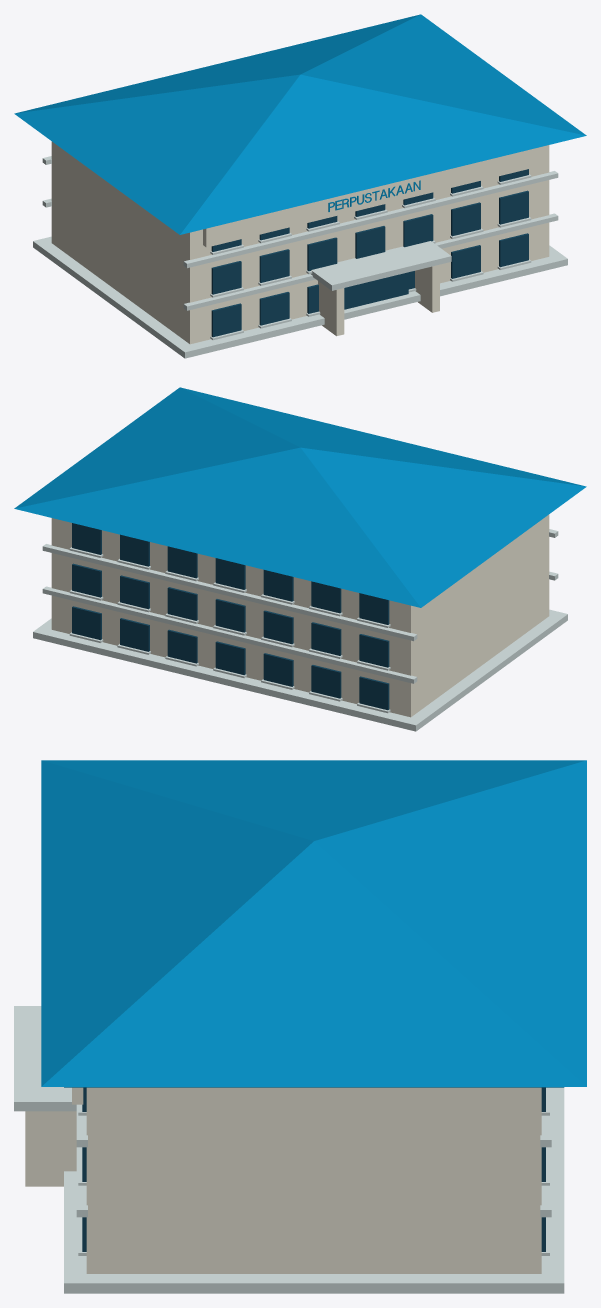
File: perpustakaan.glb
The picture shows the model from 3 angles, top to bottom: view 1: azimuth 30°, elevation 25°; view 2: azimuth 150°, elevation 25°; view 3: azimuth 270°, elevation 25°; orthographic projection. The views are drawn at different scales.
Parts seen in each view (by area): view 1: Perpustakaan_blue, Perpustakaan_ivory, Perpustakaan_trim, Perpustakaan_glass; view 2: Perpustakaan_blue, Perpustakaan_ivory, Perpustakaan_glass, Perpustakaan_trim; view 3: Perpustakaan_blue, Perpustakaan_ivory, Perpustakaan_trim, Perpustakaan_glass.
Part boxes in pixels (x1=…): Perpustakaan_blue: x1=14, y1=14, x2=586, y2=234; Perpustakaan_ivory: x1=51, y1=141, x2=549, y2=344; Perpustakaan_trim: x1=33, y1=156, x2=567, y2=358; Perpustakaan_glass: x1=211, y1=169, x2=528, y2=337; Perpustakaan_blue: x1=14, y1=387, x2=586, y2=607; Perpustakaan_ivory: x1=51, y1=514, x2=549, y2=717; Perpustakaan_glass: x1=72, y1=523, x2=389, y2=710; Perpustakaan_trim: x1=33, y1=529, x2=567, y2=731; Perpustakaan_blue: x1=41, y1=760, x2=586, y2=1087; Perpustakaan_ivory: x1=25, y1=1087, x2=541, y2=1273; Perpustakaan_trim: x1=14, y1=1006, x2=564, y2=1293; Perpustakaan_glass: x1=82, y1=1087, x2=545, y2=1251.
Bounding box in the file's own units: 34 × 14.75 × 25.2.
